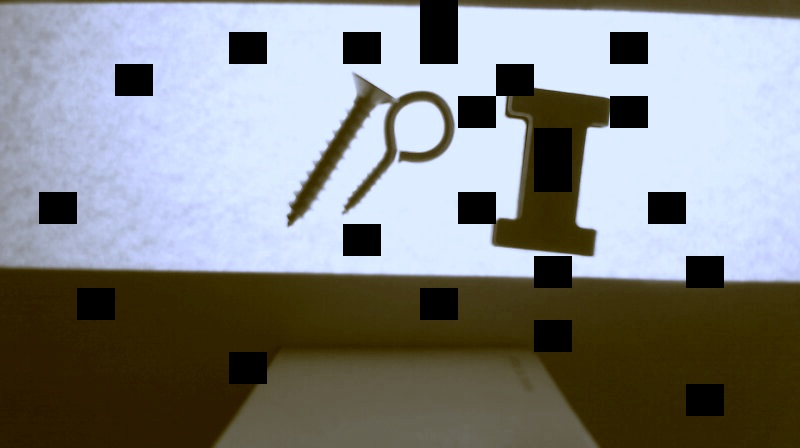O001: (335, 88, 455, 218)
O002: (488, 85, 614, 257)
S001: (283, 70, 397, 231)
